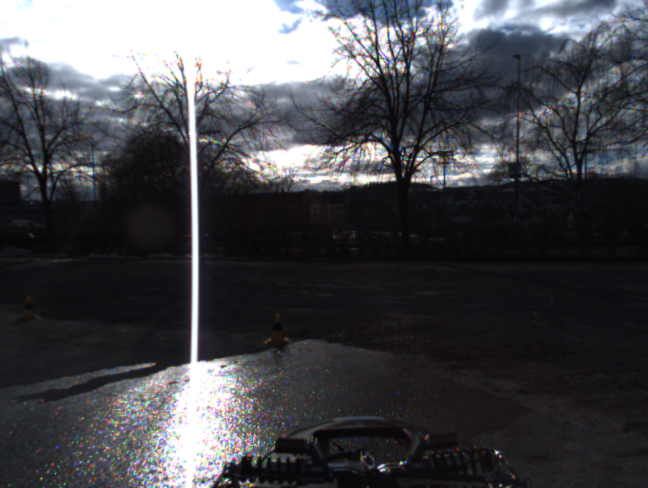cone-small-yellow: (264, 313, 290, 344), (19, 295, 39, 319)
